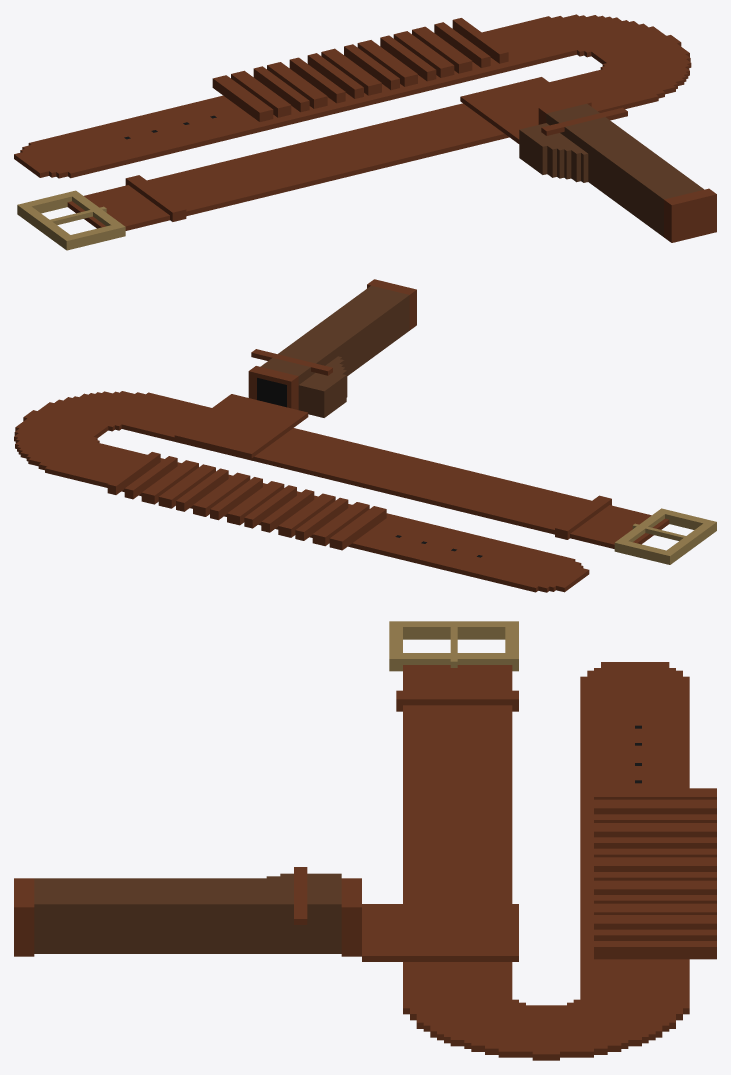
File: western_gun_belt.glb
3 renders of one model, top to bottom at view 1: azimuth 30°, elevation 25°; view 2: azimuth 150°, elevation 25°; view 3: azimuth 270°, elevation 25°, orthographic. The views are drawn at different scales.
Visible parts, largest first — view 1: western_gun_belt:compound; view 2: western_gun_belt:compound; view 3: western_gun_belt:compound.
Boxes of the visible parts, x1,y1,x2,y2 form: western_gun_belt:compound: [14, 14, 716, 250]; western_gun_belt:compound: [14, 279, 716, 592]; western_gun_belt:compound: [14, 621, 716, 1060].
Bounding box in the file's own units: 0.592 × 0.032 × 0.412.
